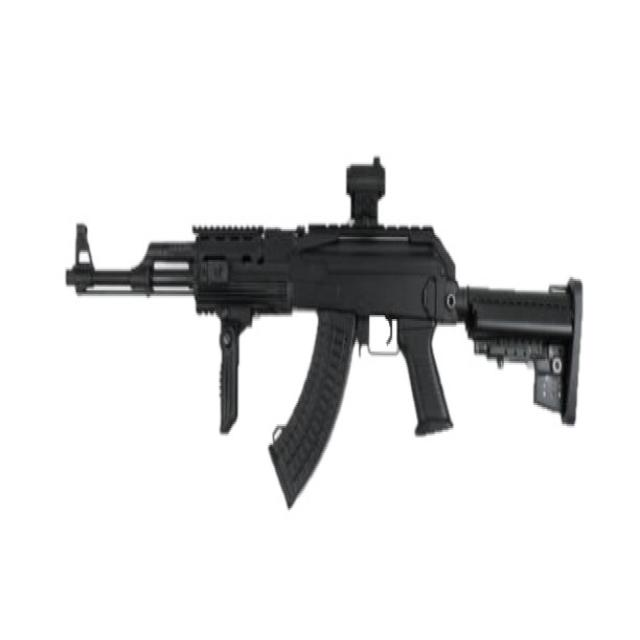rifle: (65, 152, 595, 525)
